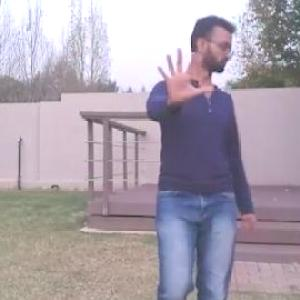follow_hand: (153, 40, 217, 108)
